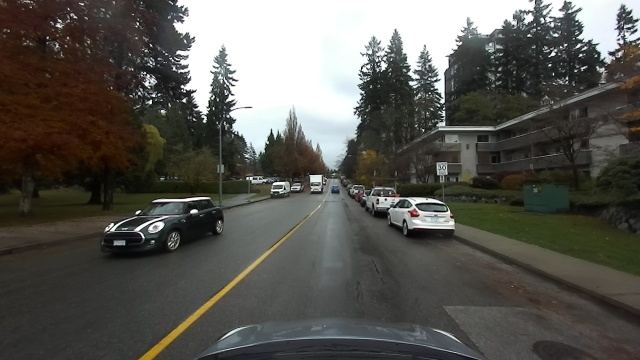car: (94, 194, 225, 255), (383, 194, 458, 237), (360, 187, 398, 213), (269, 180, 293, 197), (306, 174, 325, 193), (246, 174, 267, 184), (349, 185, 363, 196), (291, 181, 304, 192), (330, 184, 340, 195)
